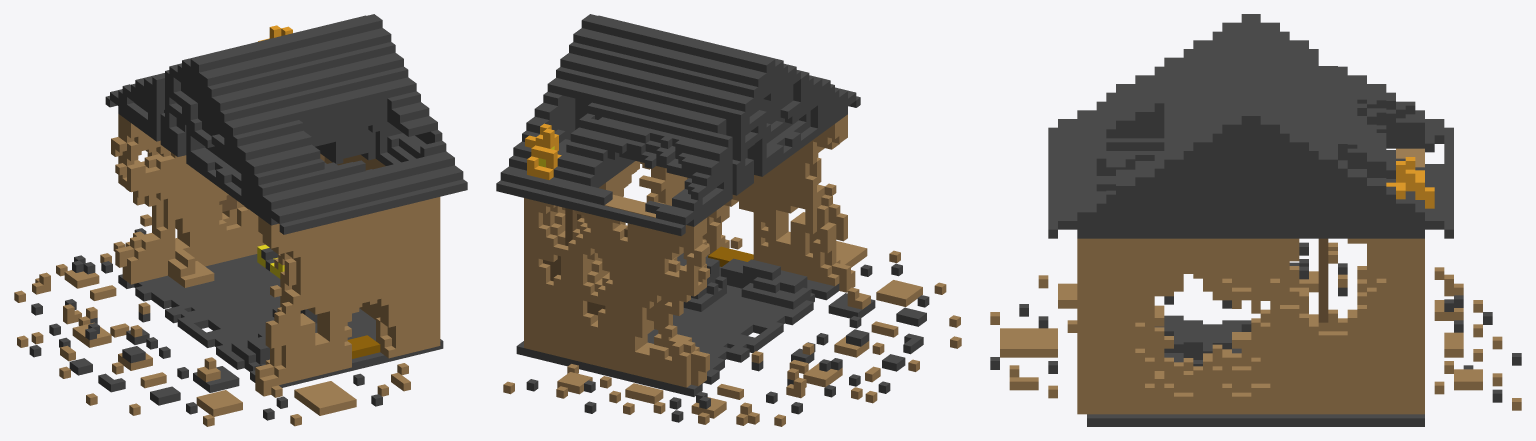
Rendered from DestroyedHouse.obj.
The picture shows the model from 3 angles, left to right: view 1: azimuth 30°, elevation 25°; view 2: azimuth 150°, elevation 25°; view 3: azimuth 270°, elevation 25°; orthographic projection. The views are drawn at different scales.
Bounding box in the file's own units: 4.5 × 3.6 × 5.5.
1 material, 1 textured.
